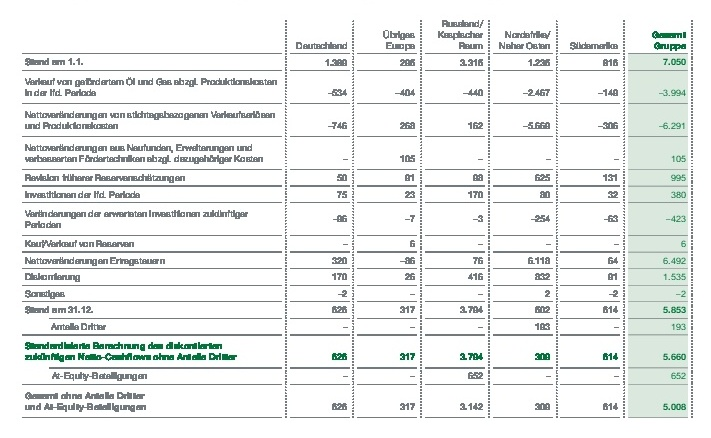table: (0, 0, 711, 438)
